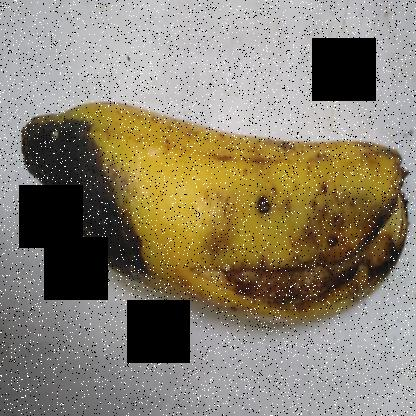rotten: (186, 144, 416, 327), (10, 93, 162, 325)
